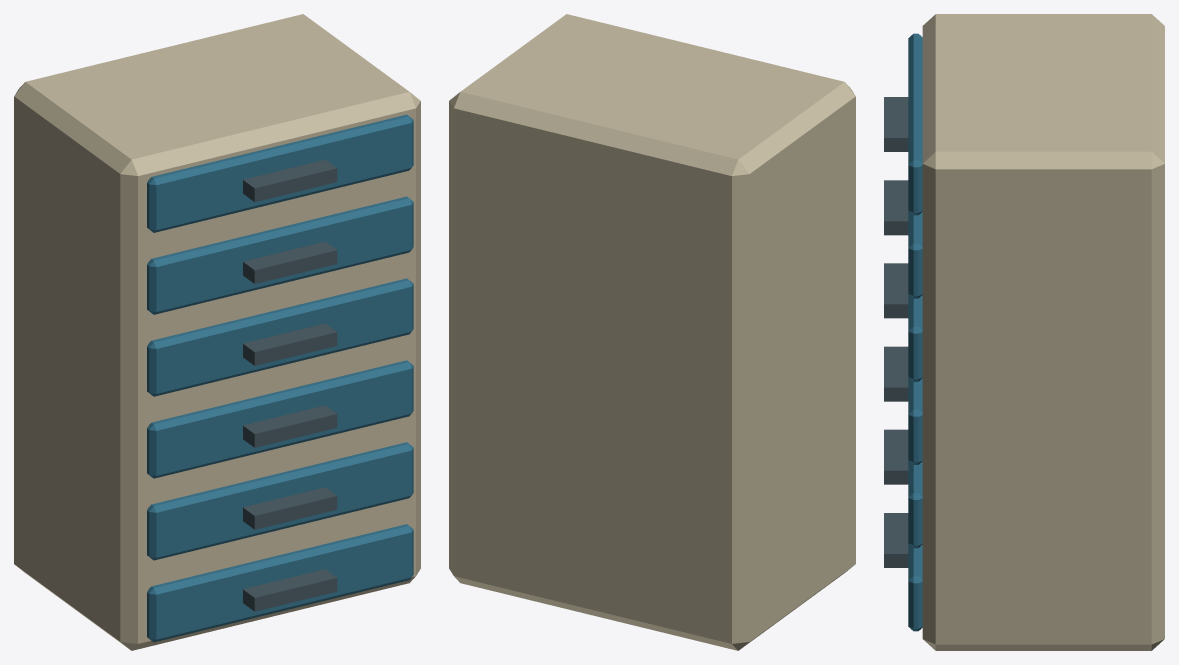
File: tool_chest.glb
3 views of the same model, side by side, from view 1: azimuth 30°, elevation 25°; view 2: azimuth 150°, elevation 25°; view 3: azimuth 270°, elevation 25° (orthographic).
Parts seen in each view (by area): view 1: tool_chest; view 2: tool_chest; view 3: tool_chest.
Part boxes in pixels (x1,y1,x2,y2): tool_chest: (14,14,420,650); tool_chest: (449,14,855,650); tool_chest: (884,14,1164,650).
Bounding box in the file's own units: 0.8 × 1.25 × 0.6375.
